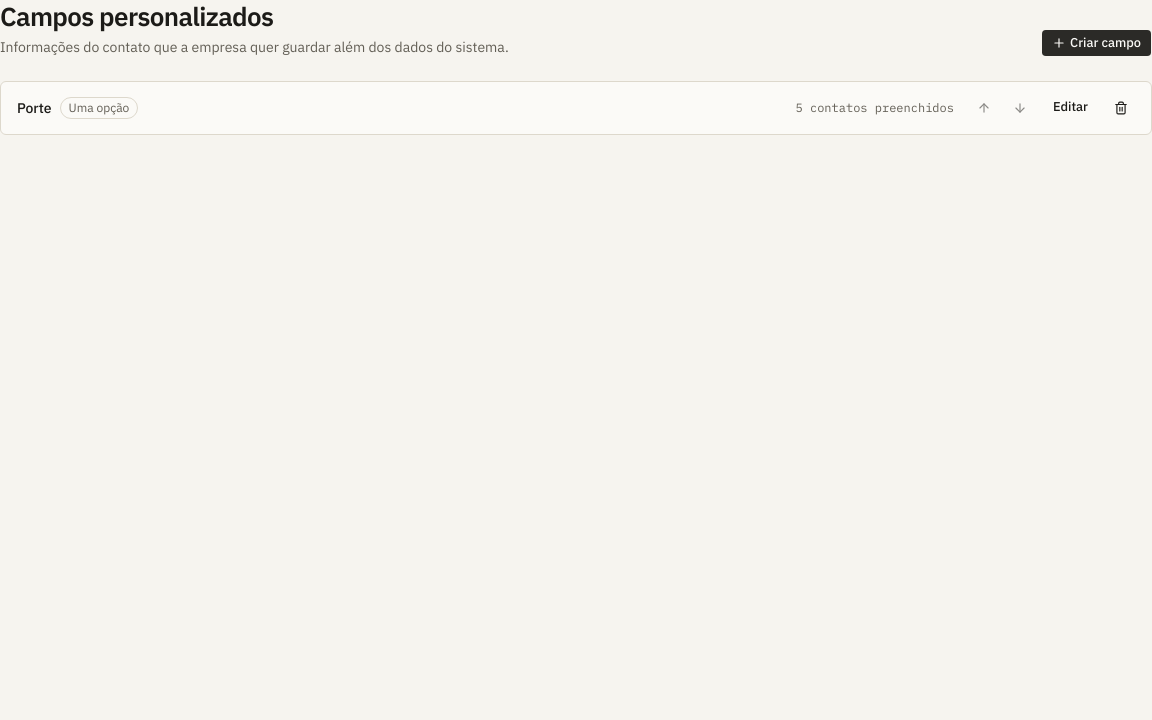
Test case: B38-06 — apagar campo e tirar opção na tela › CA-B38-13: should mostrar Usado em pelo nome e não oferecer apagar o campo em uso
Click the button named "Apagar o campo Porte" at (1121, 108), box x1=1107 y1=94 x2=1135 y2=122
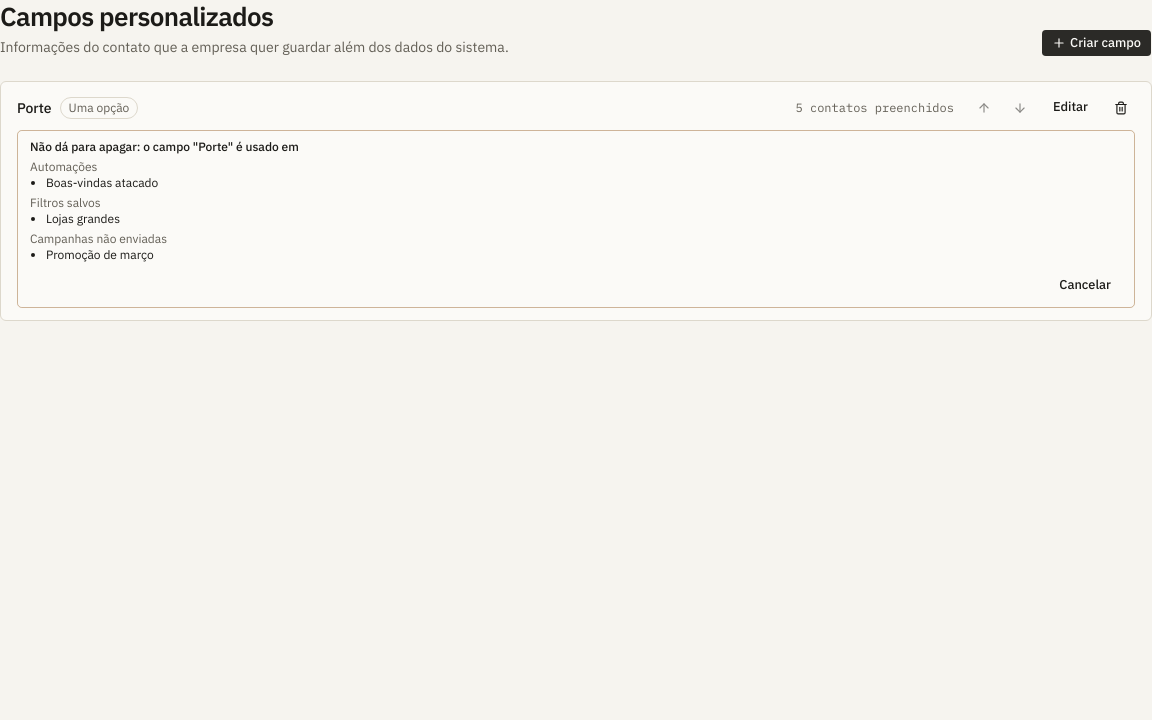
Check: the list named "Automações" reads "Boas-vindas atacado", box x1=46 y1=174 x2=158 y2=190
Check: the list named "Filtros salvos" reads "Lojas grandes", box x1=46 y1=210 x2=120 y2=226
Check: the list named "Campanhas não enviadas" reads "Promoção de março", box x1=46 y1=246 x2=154 y2=262
